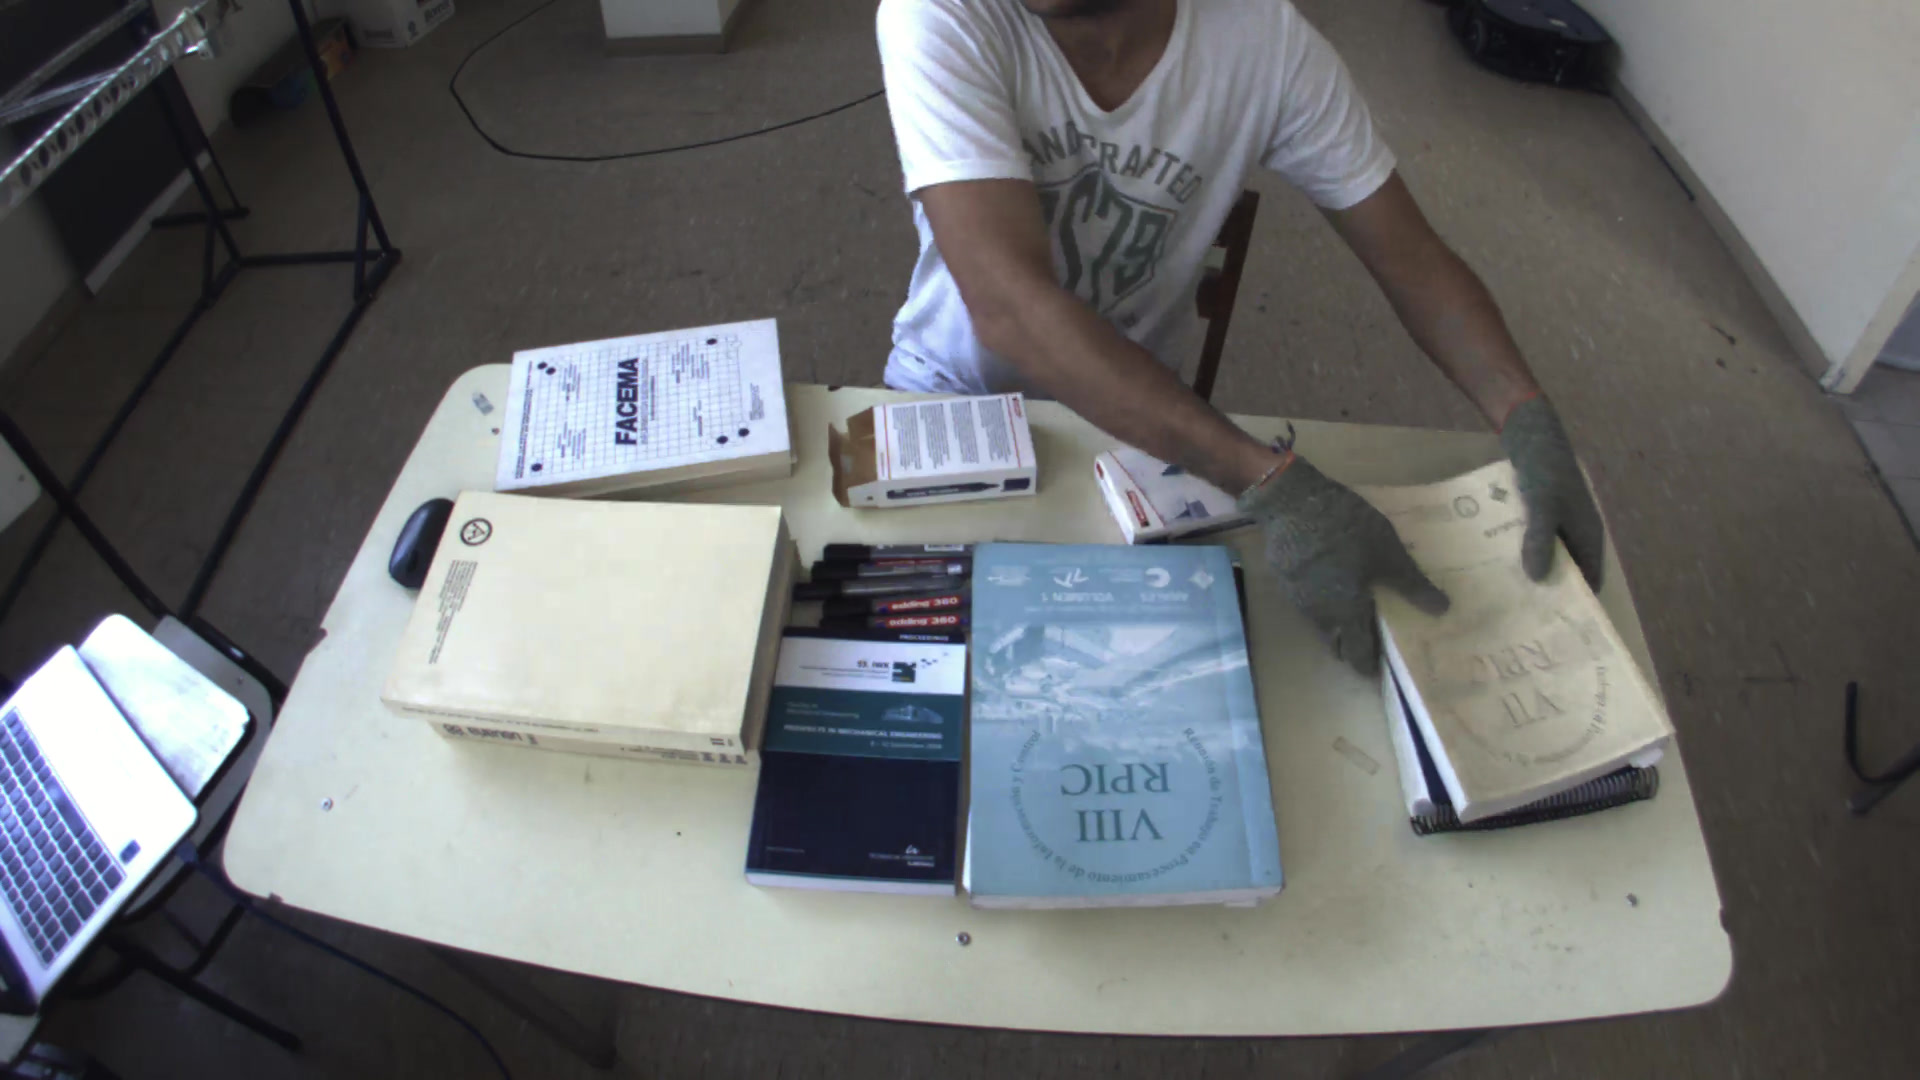hand: (1205, 455, 1466, 665), (1490, 396, 1611, 585)
